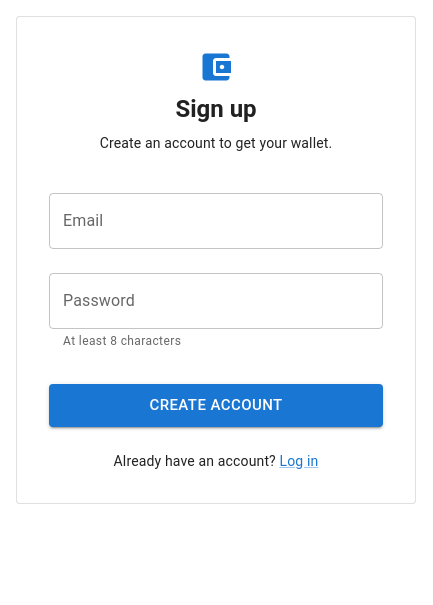
Signup › shows an error when the email is already registered
The width and height of the screenshot is (433, 605).
Type "bob@example.com" into the field labelled "Email" at (216, 221), box [49,193,383,249]
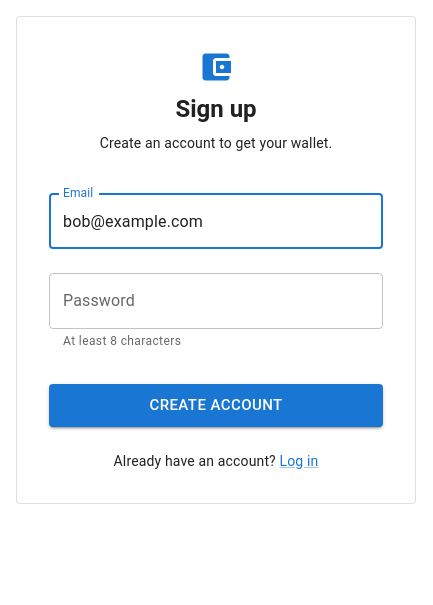
Type "correcthorse" into the password field labelled "Password" at (216, 301), box [49,273,383,329]
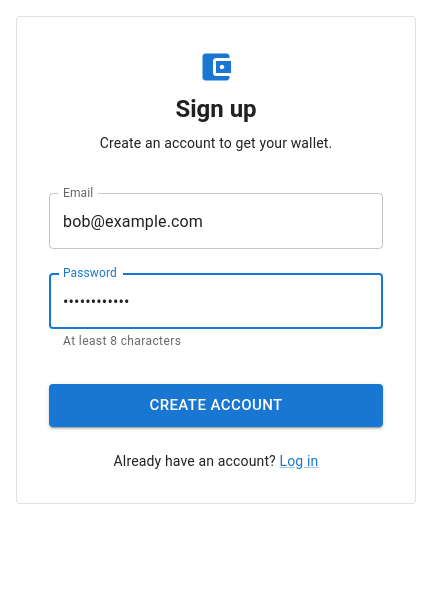
Click the button "Create account" at (216, 405), box [49,384,383,427]
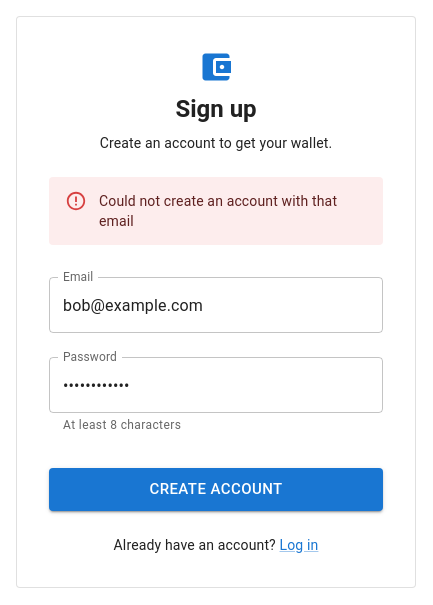
Expected: the message "Could not create an account with that email" is shown, [49,177,383,245]
